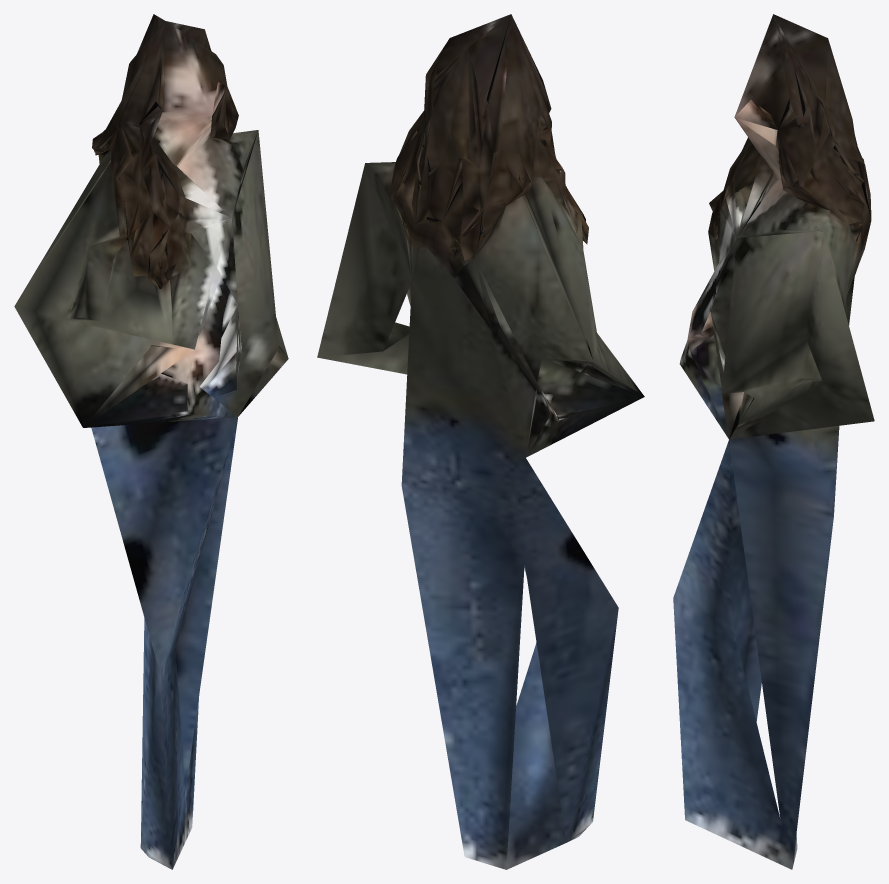
Rendered from extra-woman-1.glb.
The picture shows the model from 3 angles, left to right: view 1: azimuth 30°, elevation 25°; view 2: azimuth 150°, elevation 25°; view 3: azimuth 270°, elevation 25°; orthographic projection. The views are drawn at different scales.
Parts seen in each view (by area): view 1: Mesh_0; view 2: Mesh_0; view 3: Mesh_0.
Boxes of the visible parts, <box> form: Mesh_0: <box>14,14,288,869</box>; Mesh_0: <box>317,14,644,869</box>; Mesh_0: <box>673,14,874,869</box>.
Bounding box in the file's own units: 0.6059 × 1.87 × 0.4073.
1 material, 1 textured.
